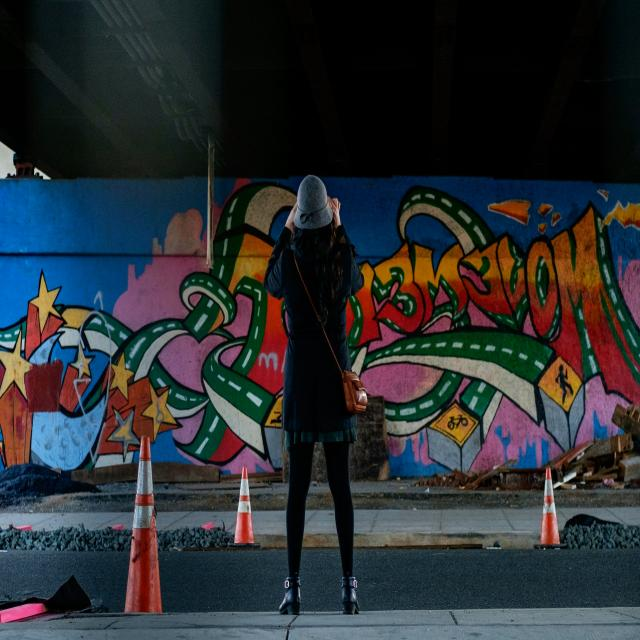adult: (263, 175, 366, 606)
